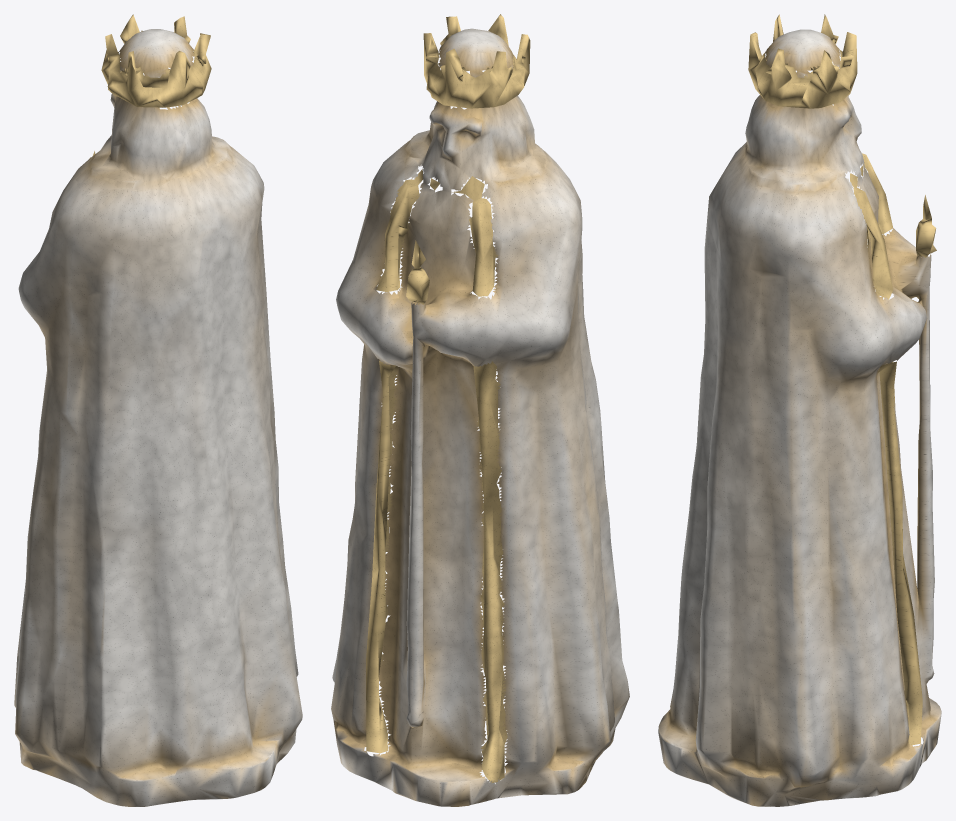
File: king-white.glb
3 renders of one model, left to right at view 1: azimuth 30°, elevation 25°; view 2: azimuth 150°, elevation 25°; view 3: azimuth 270°, elevation 25°, orthographic.
Visible parts, largest first — view 1: Argent Reliquary – White King; view 2: Argent Reliquary – White King; view 3: Argent Reliquary – White King.
Part boxes in pixels (x1,y1,x2,y2): Argent Reliquary – White King: (14, 14, 302, 806); Argent Reliquary – White King: (331, 14, 629, 806); Argent Reliquary – White King: (658, 14, 941, 806).
Size of the model in its own units: 0.6626 by 1.65 by 0.5879.
Materials: 2 (2 with a texture image).
